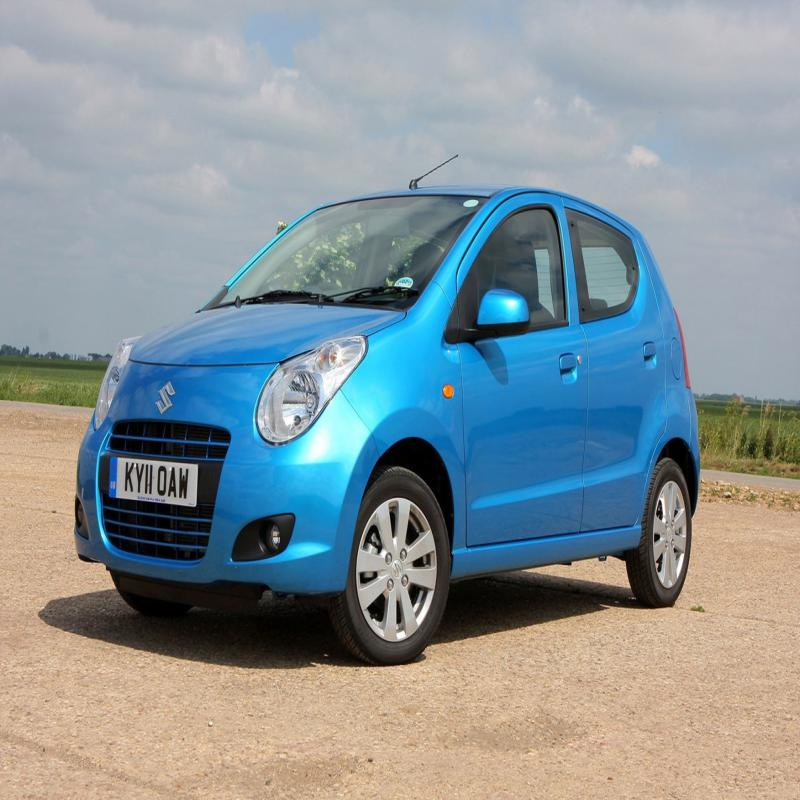car: (72, 112, 720, 642)
